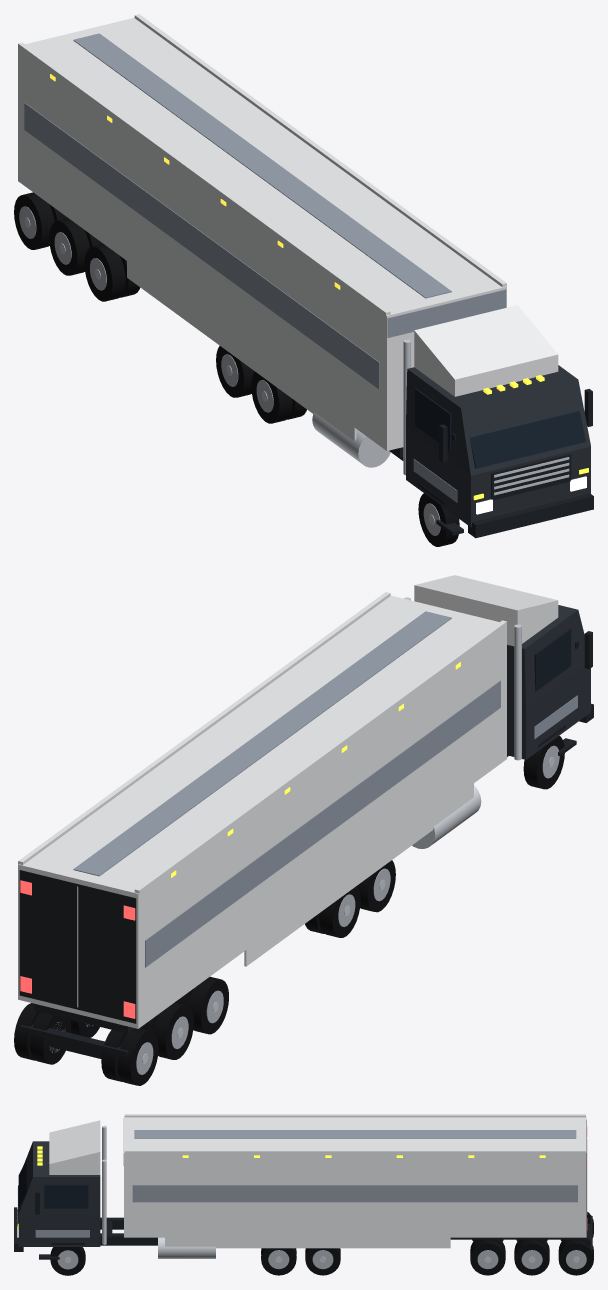
The model's file is truck-offline.glb.
The picture shows the model from 3 angles, top to bottom: view 1: azimuth 30°, elevation 25°; view 2: azimuth 150°, elevation 25°; view 3: azimuth 270°, elevation 25°; orthographic projection. The views are drawn at different scales.
Visible parts, largest first — view 1: tractocamion; view 2: tractocamion; view 3: tractocamion.
Boxes of the visible parts, <box> form: tractocamion: <box>14,14,593,546</box>; tractocamion: <box>14,575,593,1085</box>; tractocamion: <box>14,1114,593,1275</box>.
Size of the model in its own units: 3.2 by 4.06 by 17.06.
